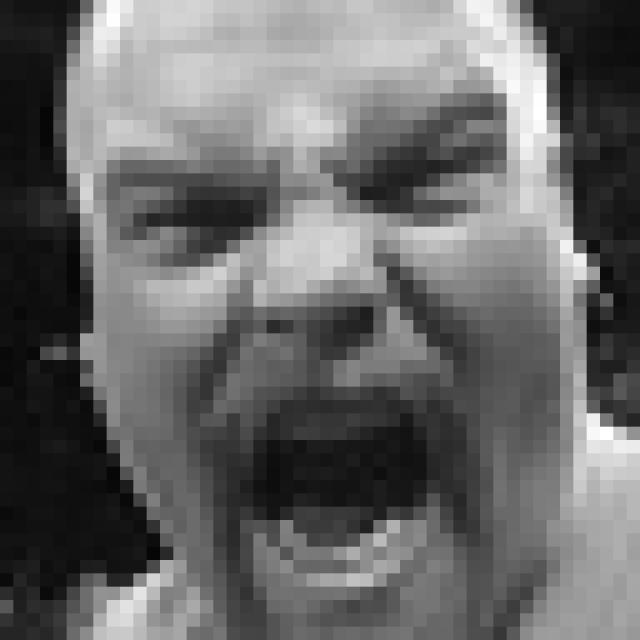angry: (96, 41, 526, 600)
